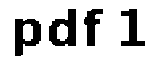1: (117, 8, 150, 53)
d: (48, 8, 79, 51)
f: (82, 5, 107, 52)
p: (10, 16, 43, 60)
